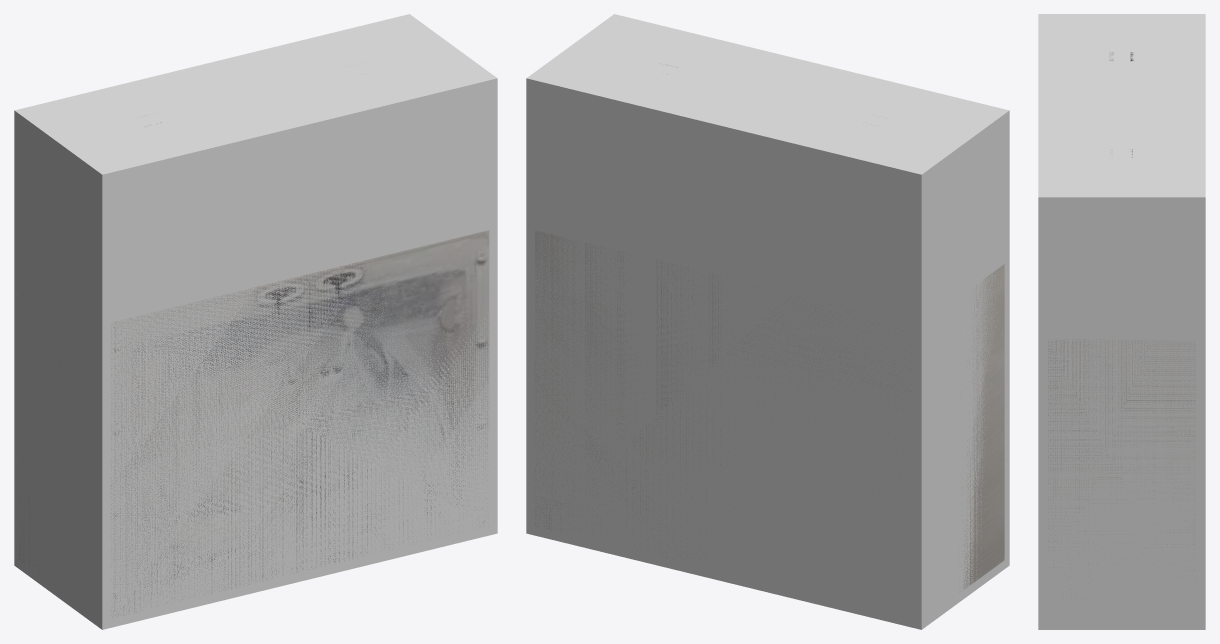
File: crew-lock-bag.glb
3 renders of one model, left to right at view 1: azimuth 30°, elevation 25°; view 2: azimuth 150°, elevation 25°; view 3: azimuth 270°, elevation 25°, orthographic. The views are drawn at different scales.
Visible parts, largest first — view 1: COL_crew-lock-bag, crew-lock-bag; view 2: COL_crew-lock-bag, crew-lock-bag; view 3: COL_crew-lock-bag, crew-lock-bag.
Part boxes in pixels (<box>): COL_crew-lock-bag: <box>14,14,497,629</box>; crew-lock-bag: <box>19,63,489,617</box>; COL_crew-lock-bag: <box>526,14,1009,629</box>; crew-lock-bag: <box>534,63,1004,592</box>; COL_crew-lock-bag: <box>1038,14,1205,629</box>; crew-lock-bag: <box>1048,52,1195,598</box>.
Bounding box in the file's own units: 0.3569 × 0.3928 × 0.1374.
Materials: 1 (1 with a texture image).
